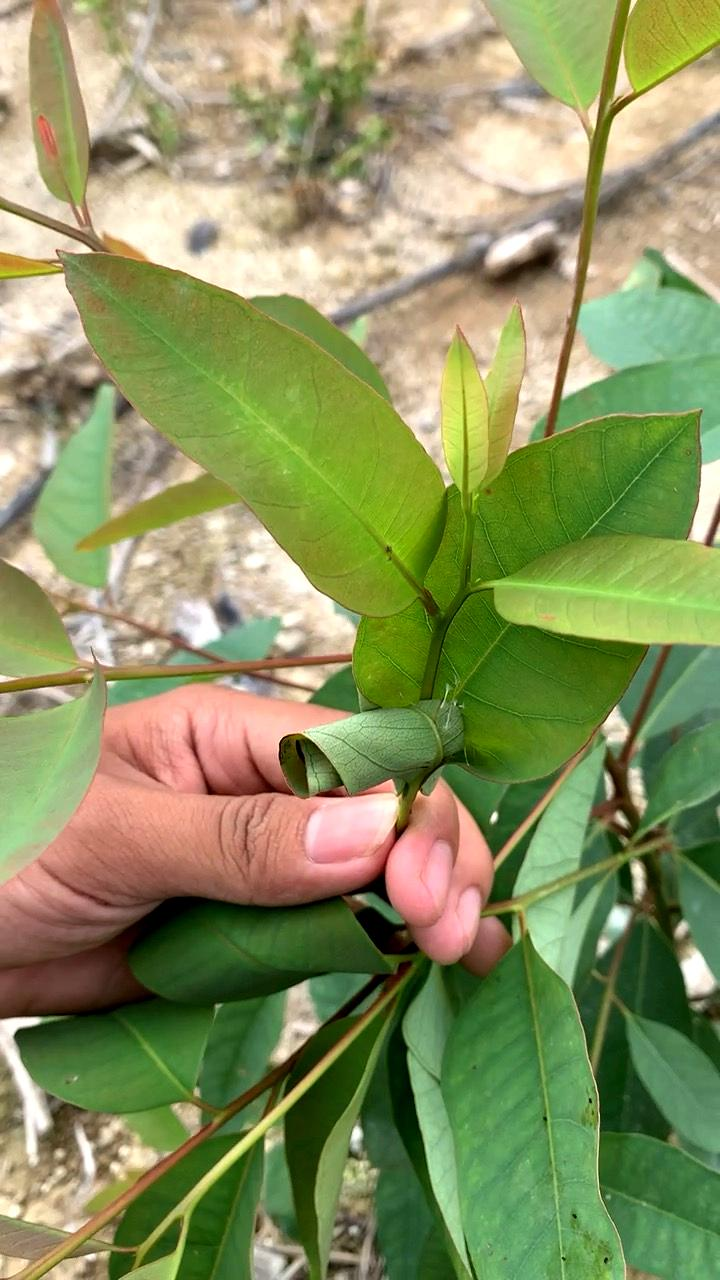Leaf Roller - Leaf: (243, 646, 513, 874)
